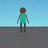person: (17, 7, 29, 32)
